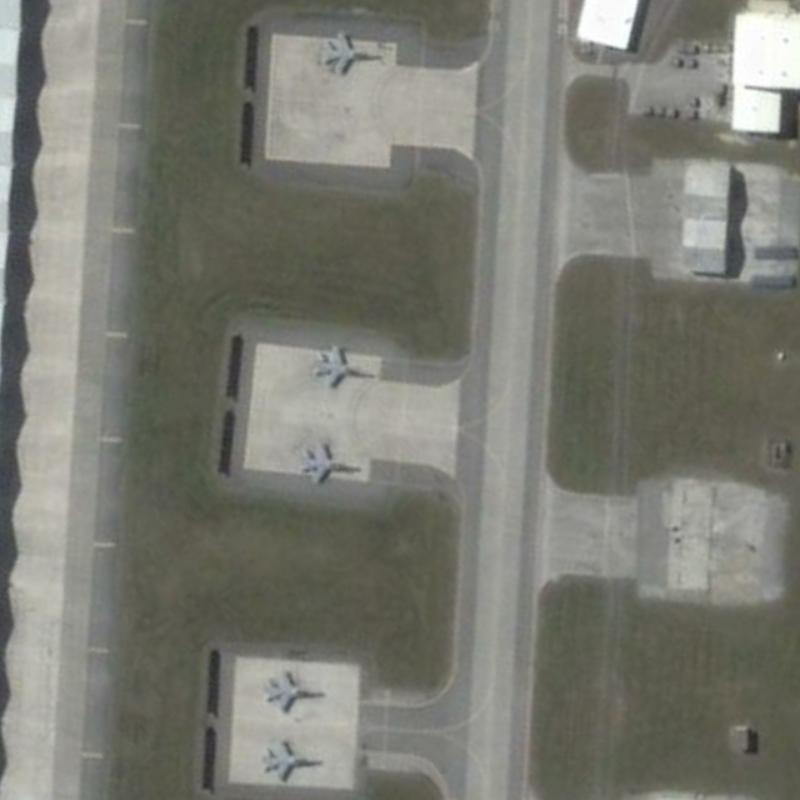A16: (257, 733, 327, 786), (313, 28, 381, 81), (304, 337, 372, 390), (261, 665, 326, 719), (291, 438, 364, 485)
